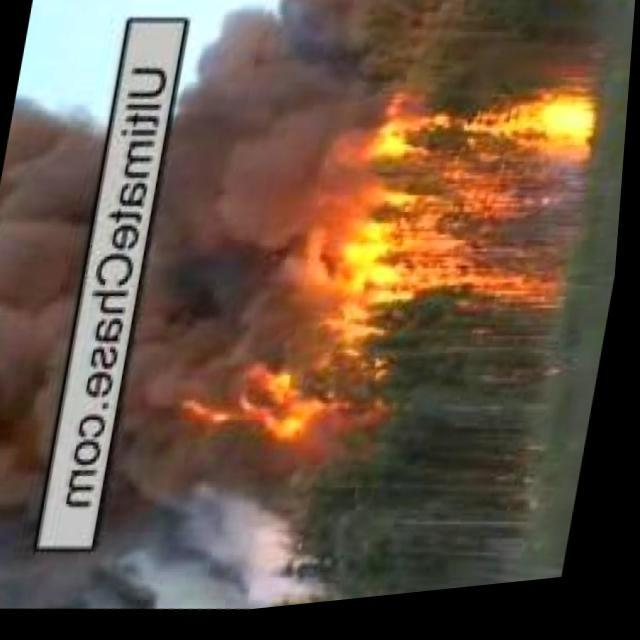fire: (356, 57, 628, 349), (202, 352, 350, 478), (570, 0, 618, 2)
